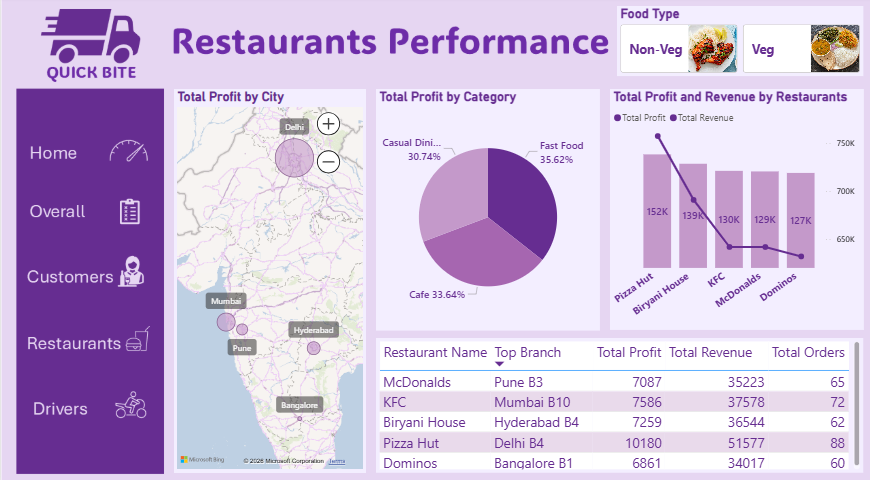

What the dashboard file says about the page in this screenshot:
{"tool":"powerbi","page":{"name":"Restaurants","canvas":[1280,720],"ordinal":3},"visuals":[{"type":"pieChart","fields":{"Category":["master_sheet.Category"],"Y":["master_sheet.Total Profit"]},"box":[550.5,136.5,329.1,354.9],"z":0},{"type":"lineClusteredColumnComboChart","title":"Total Profit and Revenue  by Restaurants","fields":{"Category":["master_sheet.Restaurant_Name"],"Y":["master_sheet.Total Profit"],"Y2":["master_sheet.Total Revenue"]},"box":[894.3,137,373.1,354.2],"z":1000},{"type":"advancedSlicerVisual","fields":{"Values":["master_sheet.food_type"]},"box":[905.4,14,362.1,103],"z":2000},{"type":"map","title":"Total Profit by City","fields":{"Category":["master_sheet.City"],"Size":["master_sheet.Total Profit"]},"box":[253.5,137,281.8,563.6],"z":3000},{"type":"tableEx","fields":{"Values":["master_sheet.Restaurant_Name","master_sheet.Restaurant_Branch","master_sheet.Total Profit","master_sheet.Total Revenue","master_sheet.Total Orders"]},"box":[551,502.2,716.4,198.4],"z":4000},{"type":"actionButton","box":[22.7,0,216.9,131.9],"z":4001},{"type":"pageNavigator","box":[22.7,160.8,216.9,505],"z":4002}]}

Visuals, with their boxes in screenshot pixels (x1, y1, x2, y2), scaled from the page's 1280x720 canvas onto the 870x480 screenshot:
pieChart - master_sheet.Category x master_sheet.Total Profit: 374,91,598,328
"Total Profit and Revenue  by Restaurants" lineClusteredColumnComboChart: 608,91,861,327
advancedSlicerVisual - master_sheet.food_type: 615,9,862,78
"Total Profit by City" map: 172,91,364,467
tableEx - master_sheet.Restaurant_Name x master_sheet.Restaurant_Branch: 375,335,861,467
actionButton: 15,0,163,88
pageNavigator: 15,107,163,444
